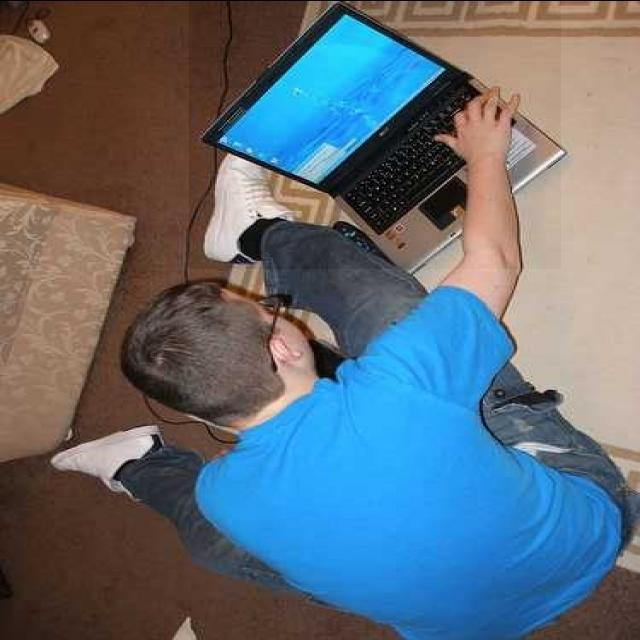-keyboard-: (189, 0, 561, 269)
